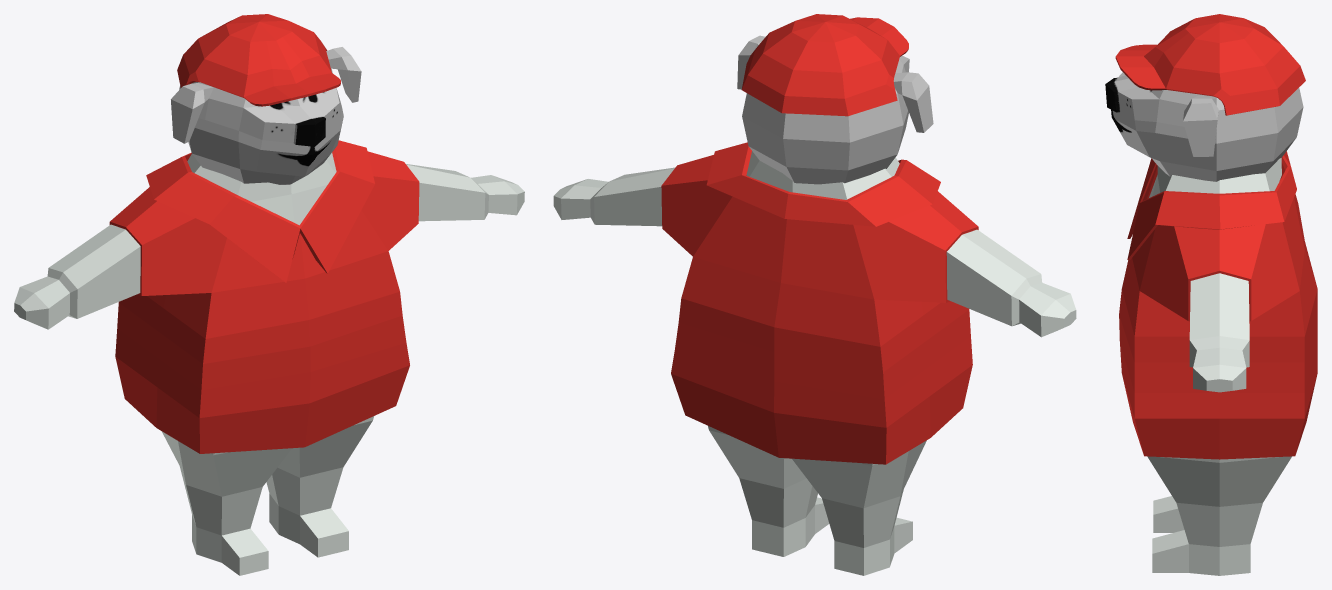
The model's file is aliceModel.fbx.
3 views of the same model, side by side, from view 1: azimuth 30°, elevation 25°; view 2: azimuth 150°, elevation 25°; view 3: azimuth 270°, elevation 25° (orthographic). The views are drawn at different scales.
Visible parts, largest first — view 1: Cube.003, Sphere.006, Sphere.003; view 2: Cube.003, Sphere.003, Sphere.006; view 3: Cube.003, Sphere.006, Sphere.003.
Boxes of the visible parts, bbox=[...] form: Cube.003: bbox=[14, 140, 524, 575]; Sphere.006: bbox=[171, 47, 361, 184]; Sphere.003: bbox=[177, 14, 340, 106]; Cube.003: bbox=[553, 142, 1076, 575]; Sphere.003: bbox=[741, 14, 908, 116]; Sphere.006: bbox=[737, 35, 933, 184]; Cube.003: bbox=[1119, 151, 1317, 575]; Sphere.006: bbox=[1105, 72, 1303, 181]; Sphere.003: bbox=[1115, 14, 1305, 115].
Size of the model in its own units: 422 by 419 by 154.
Materials: 3 (1 with a texture image).
